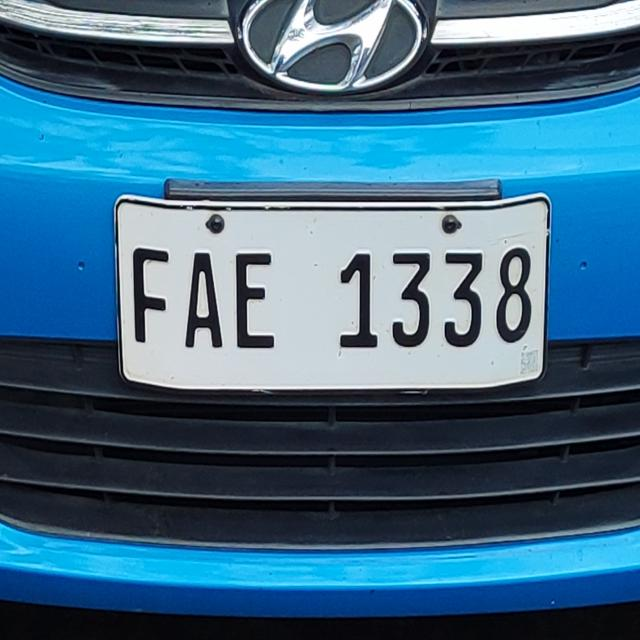plate: (110, 188, 554, 401)
